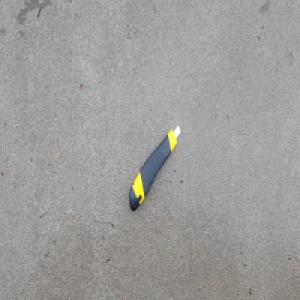Cutter: (128, 122, 182, 211)
